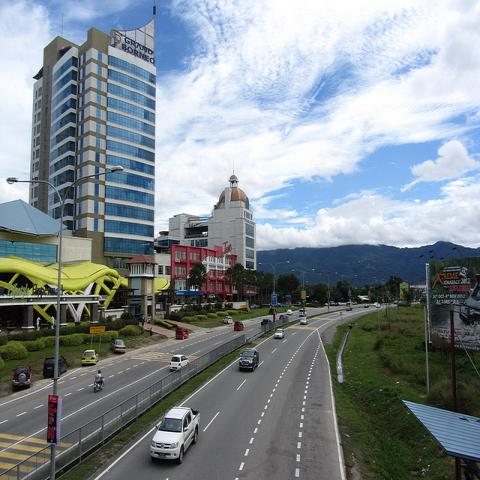car: (5, 293, 398, 396), (239, 349, 259, 371), (168, 354, 190, 372), (43, 356, 55, 379), (110, 338, 126, 354), (82, 350, 98, 365), (176, 327, 189, 340), (275, 328, 286, 340), (261, 318, 271, 326), (300, 316, 308, 324), (373, 302, 377, 307), (376, 303, 380, 308)
motorcycle: (94, 379, 104, 393)
truck: (150, 405, 200, 462), (240, 347, 260, 371)
